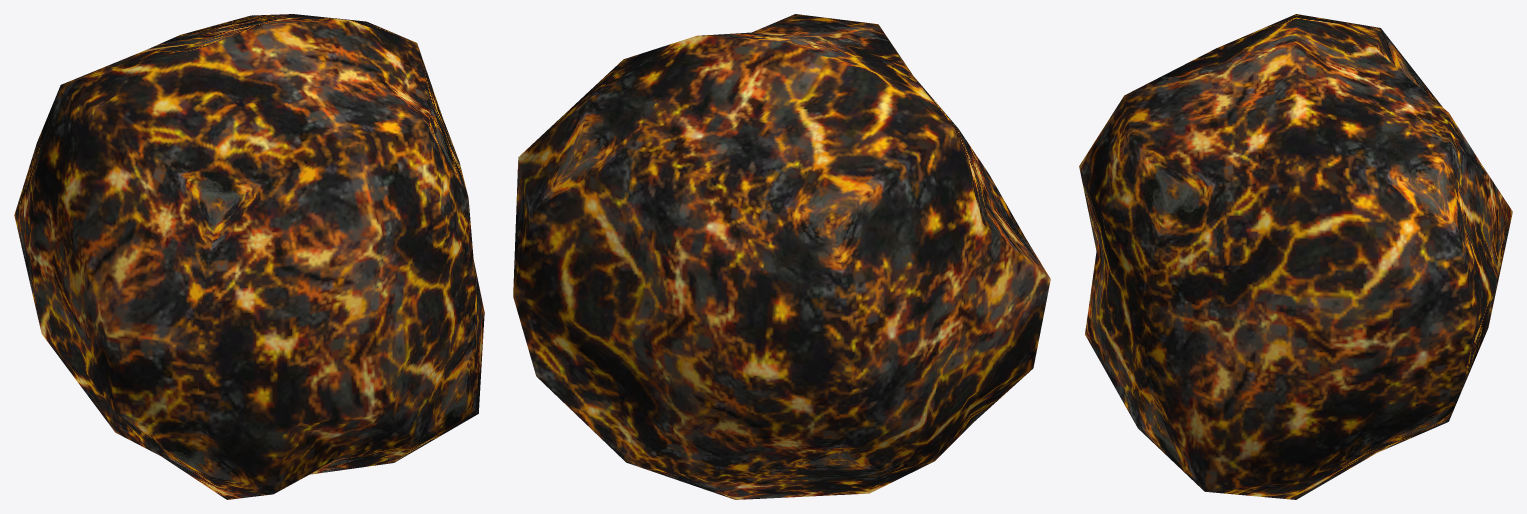
Rendered from asteroid_moltenrock_large_s02_l2.fbx.
The picture shows the model from 3 angles, left to right: view 1: azimuth 30°, elevation 25°; view 2: azimuth 150°, elevation 25°; view 3: azimuth 270°, elevation 25°; orthographic projection. The views are drawn at different scales.
Parts seen in each view (by area): view 1: mesh_node; view 2: mesh_node; view 3: mesh_node.
Boxes of the visible parts, left/top/right/bottom form: mesh_node: left=14, top=14, right=484, bottom=499; mesh_node: left=513, top=14, right=1050, bottom=499; mesh_node: left=1079, top=14, right=1512, bottom=499.
Size of the model in its own units: 112 by 114 by 109.
